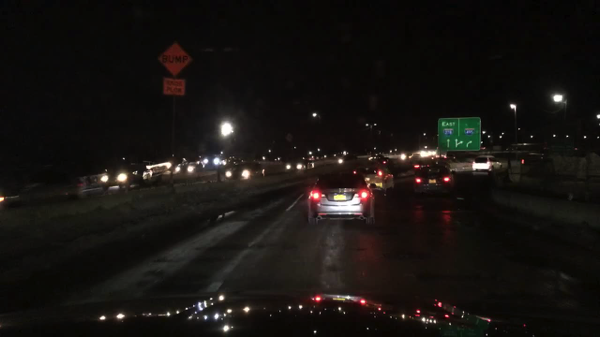car: (306, 171, 376, 228), (1, 168, 87, 208), (100, 160, 152, 191), (355, 162, 394, 198), (413, 164, 459, 194), (220, 161, 264, 179), (472, 156, 504, 172), (198, 151, 223, 169), (283, 156, 308, 173), (507, 143, 547, 152), (175, 163, 198, 177)
traffic light: (521, 160, 528, 164)
traffic sign: (436, 118, 480, 152), (155, 44, 194, 78), (163, 80, 184, 96), (550, 144, 573, 156)
